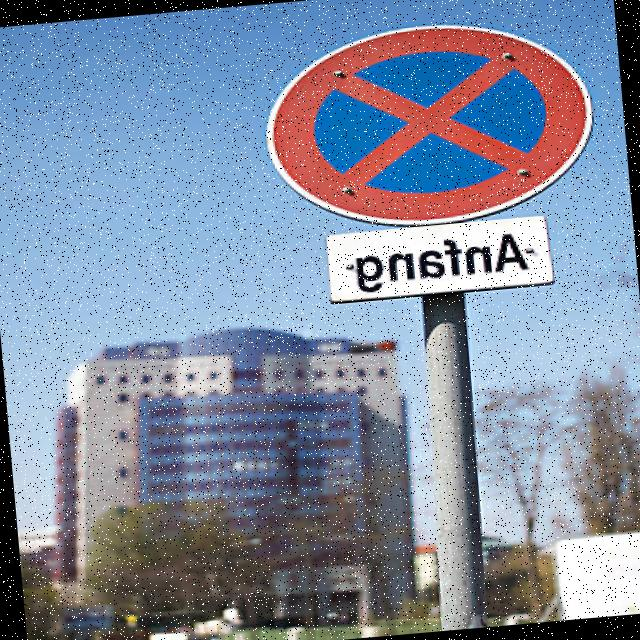no_parking: (242, 2, 608, 241)
